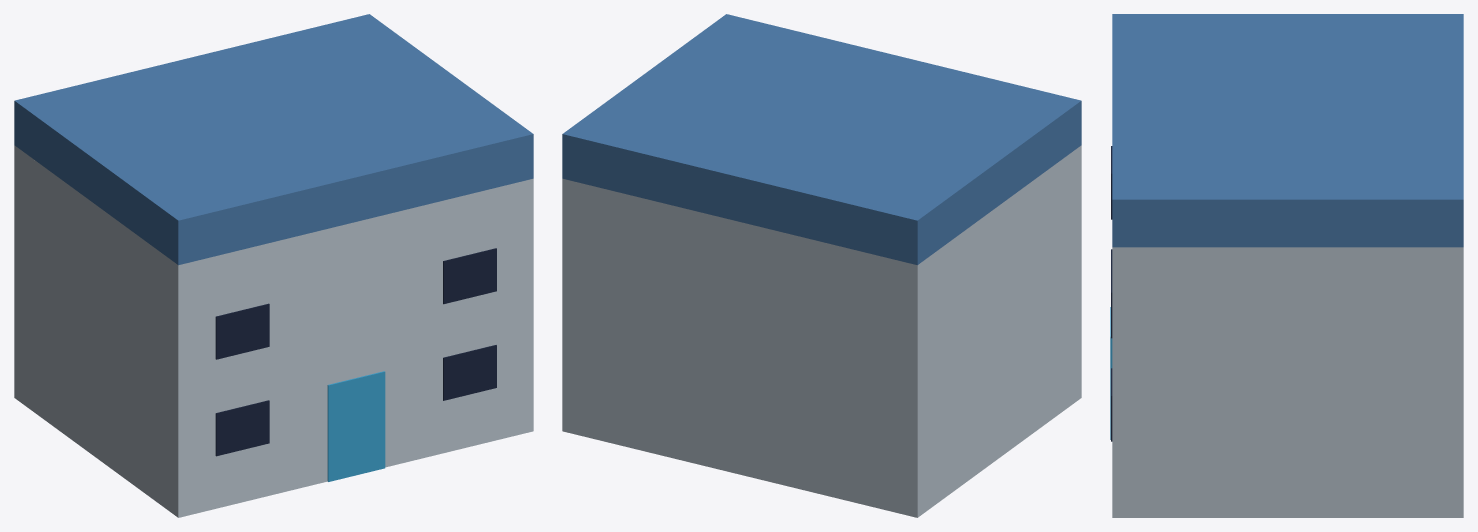
File: house-b.glb
The picture shows the model from 3 angles, left to right: view 1: azimuth 30°, elevation 25°; view 2: azimuth 150°, elevation 25°; view 3: azimuth 270°, elevation 25°; orthographic projection. The views are drawn at different scales.
Visible parts, largest first — view 1: house-b; view 2: house-b; view 3: house-b.
Part boxes in pixels (x1,y1,x2,y2): house-b: (14, 14, 533, 517); house-b: (562, 14, 1081, 517); house-b: (1110, 14, 1463, 517).
Size of the model in its own units: 10 by 8 by 8.04.
